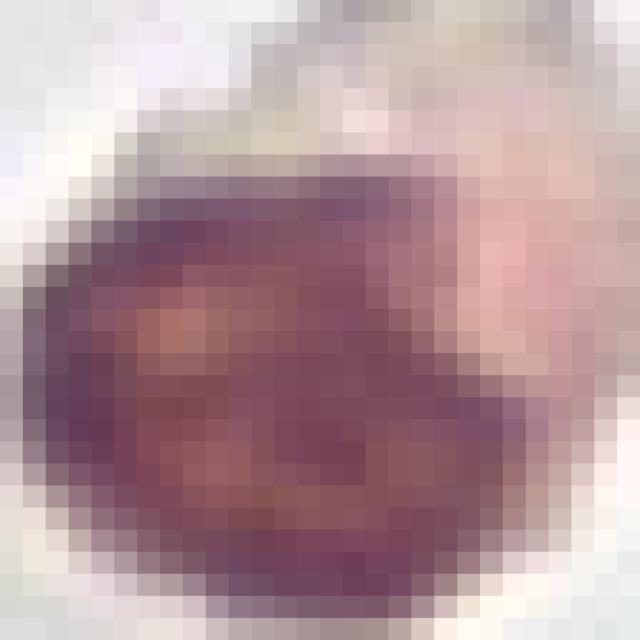cytoplasm: (0, 0, 617, 618)
nucleus: (41, 192, 519, 585)
